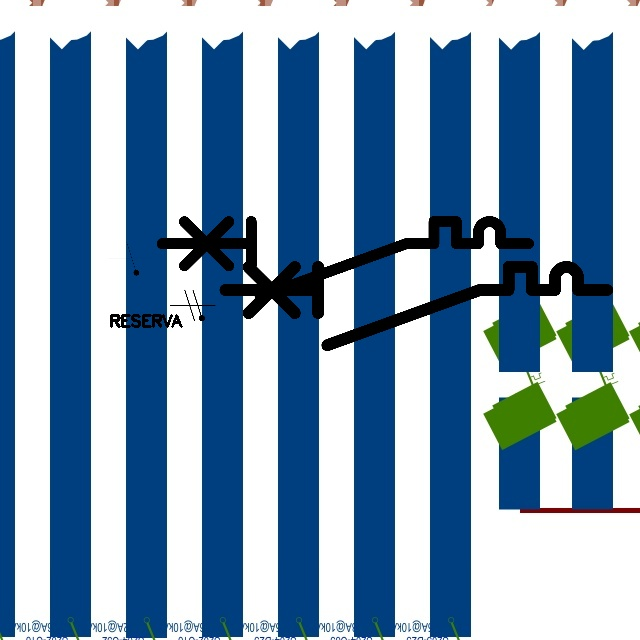interruptor_termomagnetico: (215, 257, 616, 355), (152, 212, 537, 306)
